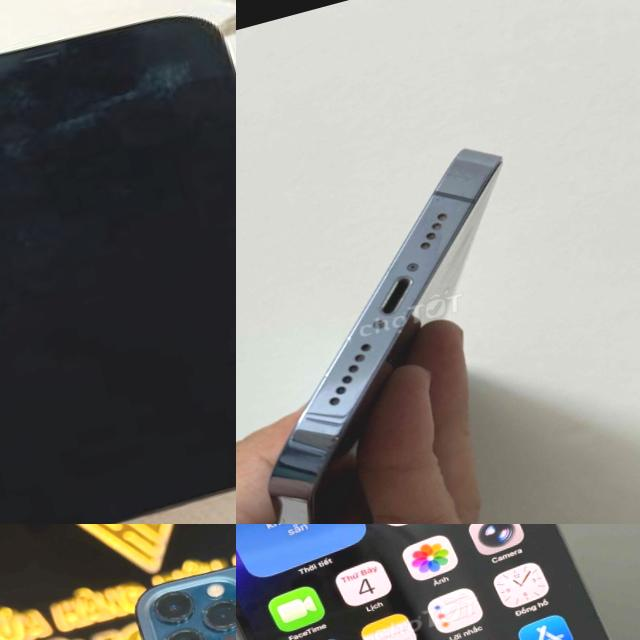gen_12_13: (236, 117, 626, 524), (0, 0, 236, 524), (130, 524, 236, 640)
gen_14: (236, 524, 640, 640)
